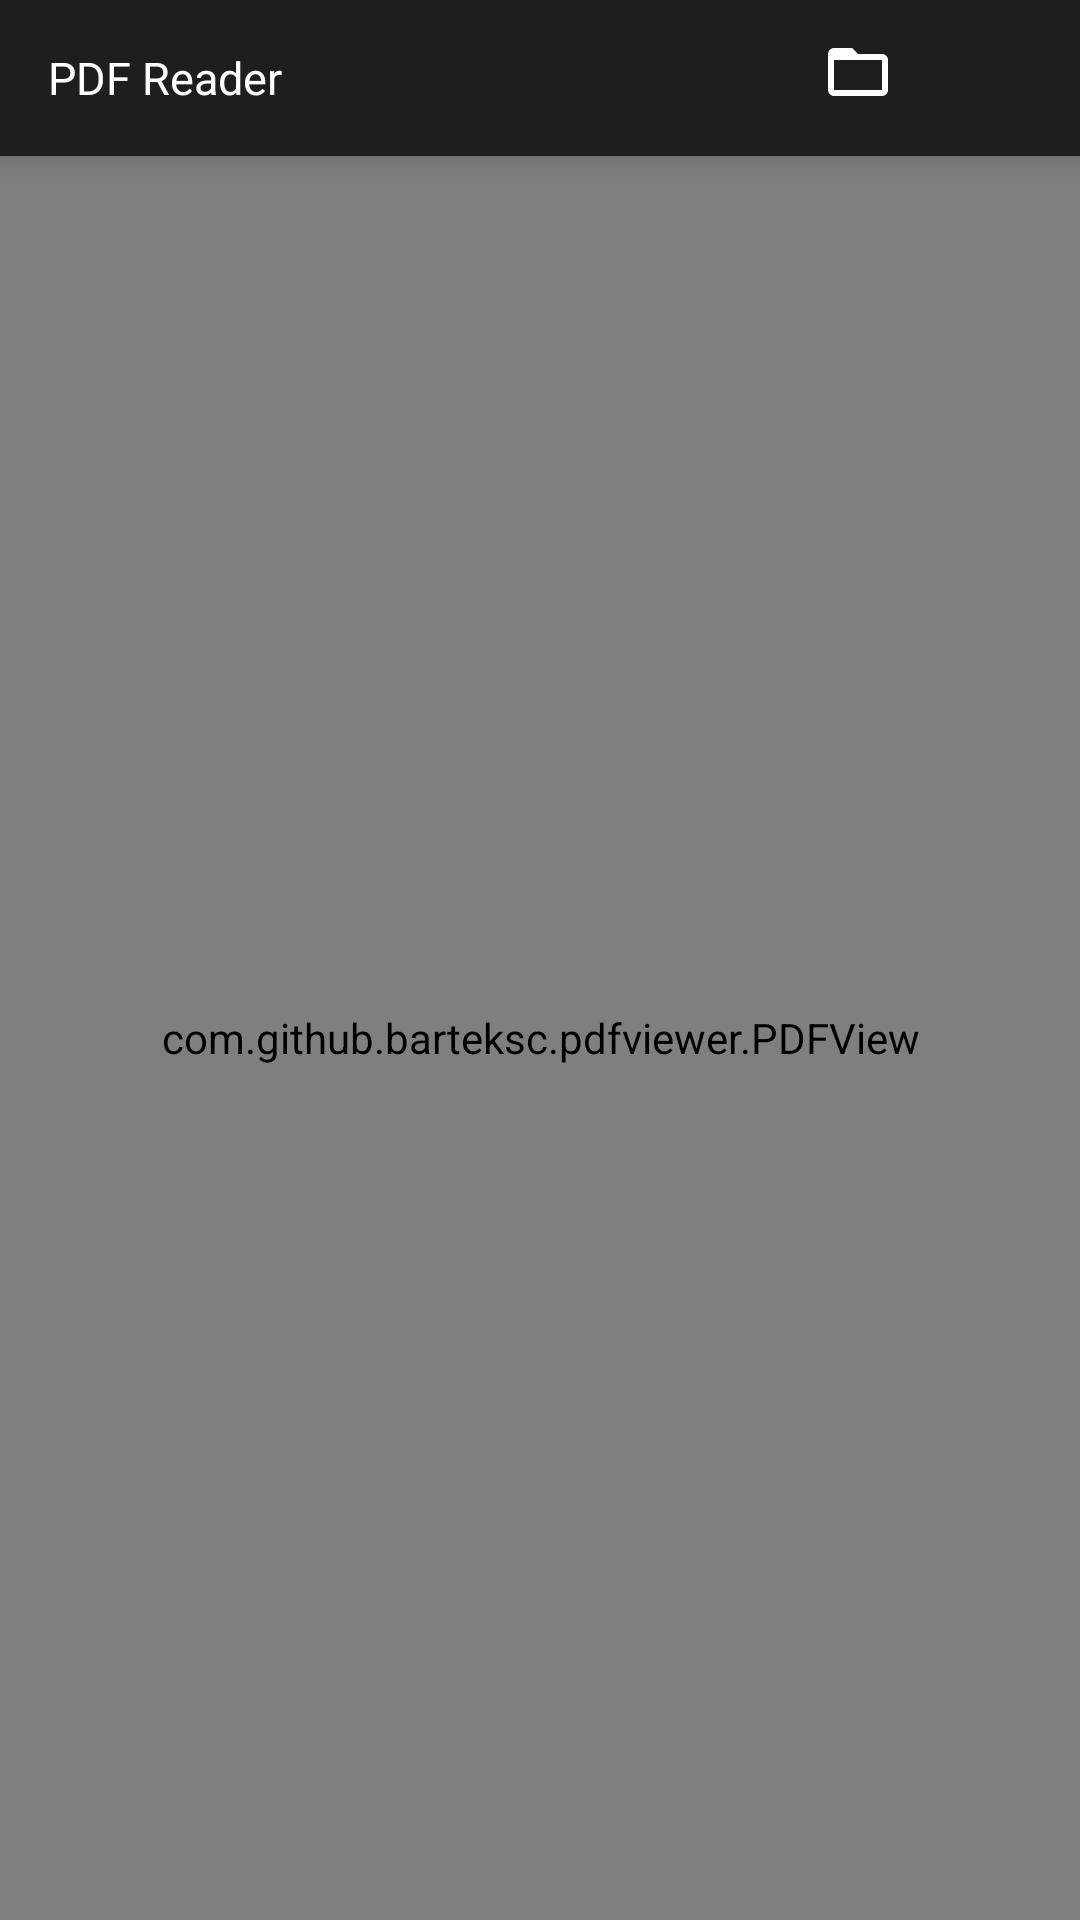

Where icons sit on this 1080 × 1920 app screen, as bbox=[x1, y1, x2, y2]:
Открыть файл: bbox=[828, 48, 888, 96]
